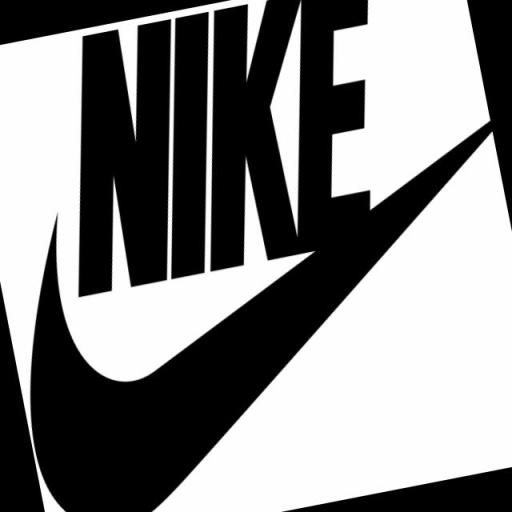Nike: (0, 126, 512, 512), (29, 0, 422, 300)
